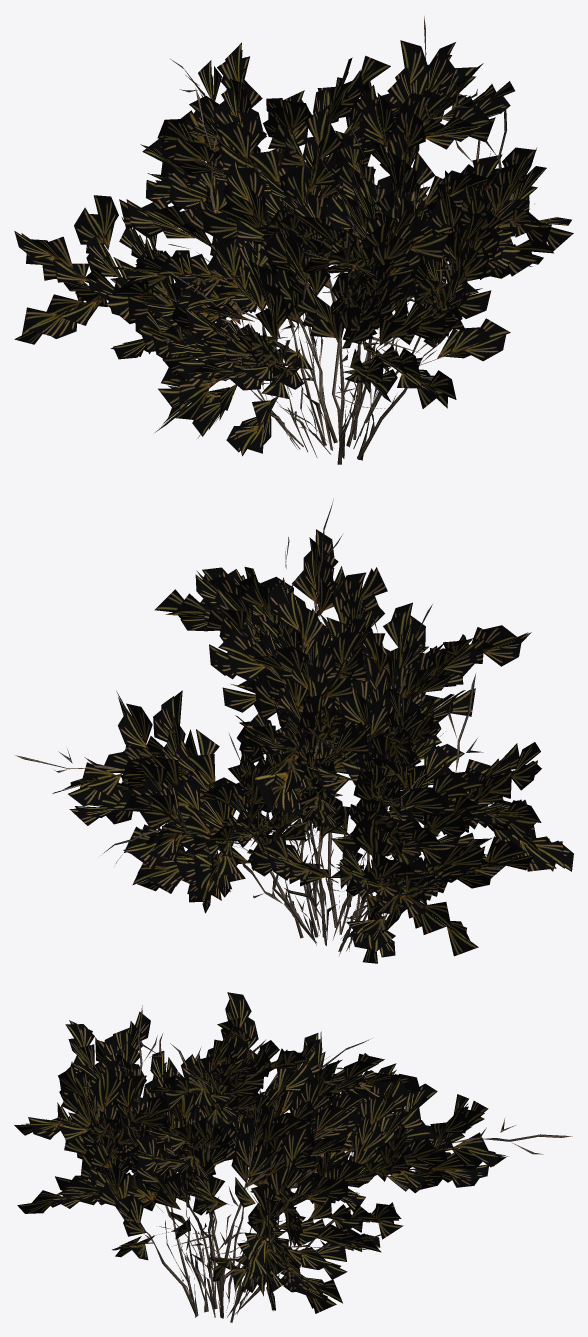
File: bush_a_near.gltf
3 renders of one model, top to bottom at view 1: azimuth 30°, elevation 25°; view 2: azimuth 150°, elevation 25°; view 3: azimuth 270°, elevation 25°, orthographic. The views are drawn at different scales.
Parts seen in each view (by area): view 1: bush_a_near; view 2: bush_a_near; view 3: bush_a_near.
Part boxes in pixels (box(x1,y1,x2,y2)): bush_a_near: box(14, 16, 573, 464); bush_a_near: box(15, 499, 573, 963); bush_a_near: box(14, 992, 572, 1322).
Bounding box in the file's own units: 2.05 × 1.61 × 2.5.
Materials: 3 (3 with a texture image).
